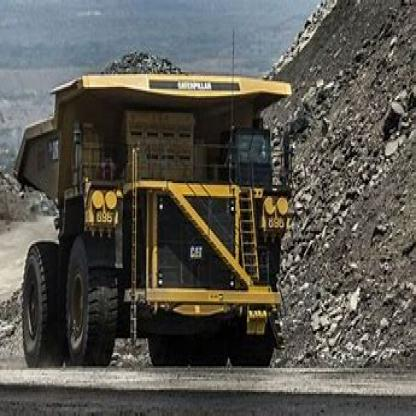dump_truck: (11, 50, 286, 366)
